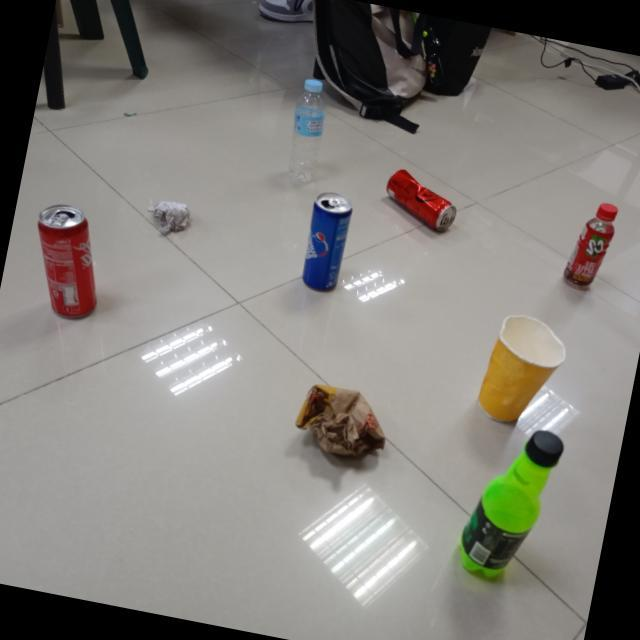recyclable waste: (446, 412, 573, 594), (466, 299, 581, 440), (14, 193, 120, 330), (282, 372, 404, 476), (291, 182, 365, 302), (374, 161, 471, 242), (556, 192, 627, 298), (277, 72, 339, 193), (138, 190, 198, 243)
